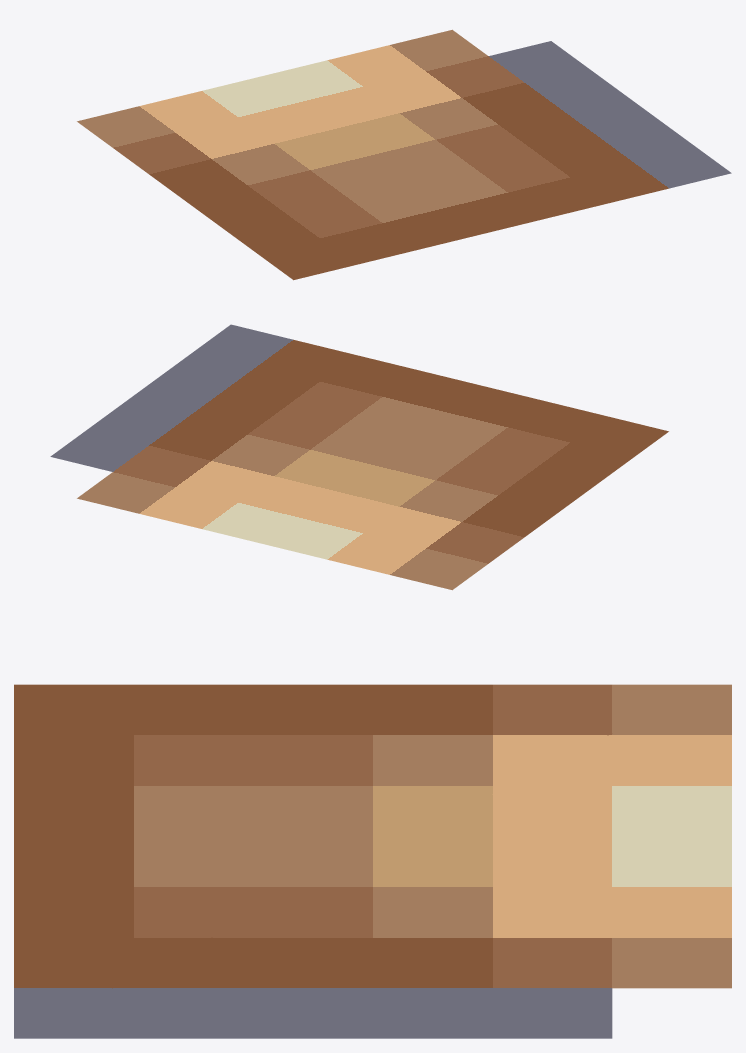
The picture shows the model from 3 angles, top to bottom: view 1: azimuth 30°, elevation 25°; view 2: azimuth 150°, elevation 25°; view 3: azimuth 270°, elevation 25°; orthographic projection. The views are drawn at different scales.
Bounding box in the file's own units: 0.5 × 0 × 0.375.
Materials: 1 (1 with a texture image).
